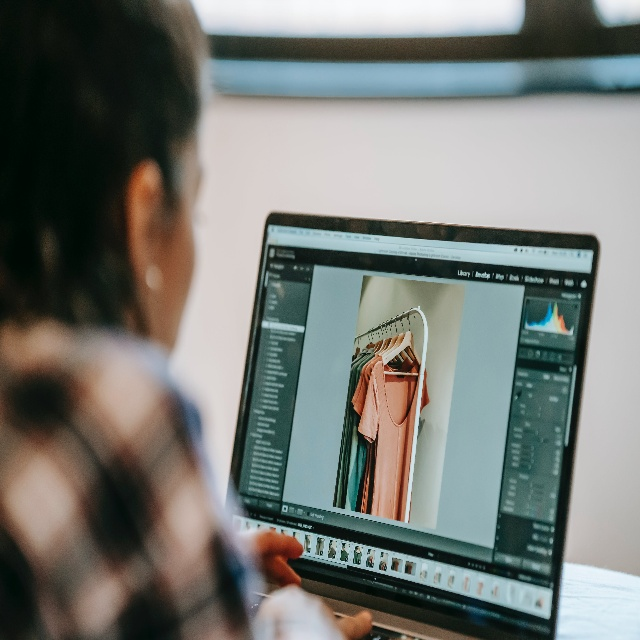Sin_guantes: (247, 530, 304, 589)
